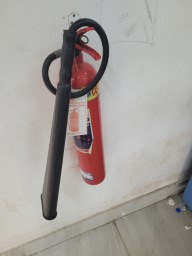fire_extinguisher: (13, 110, 165, 202)
